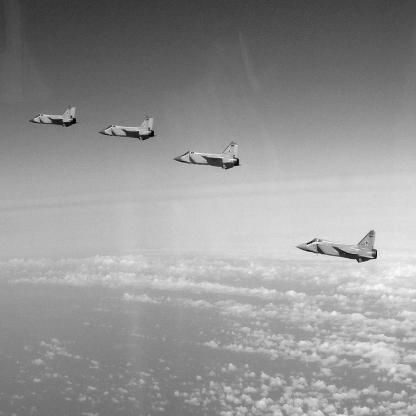Mig31: (295, 230, 379, 264), (173, 141, 243, 171), (98, 116, 158, 142), (29, 106, 80, 128)
